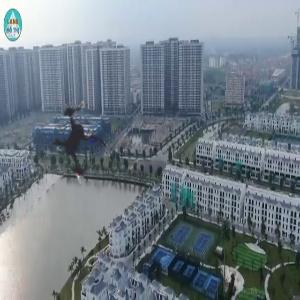drone: (7, 71, 148, 212)
